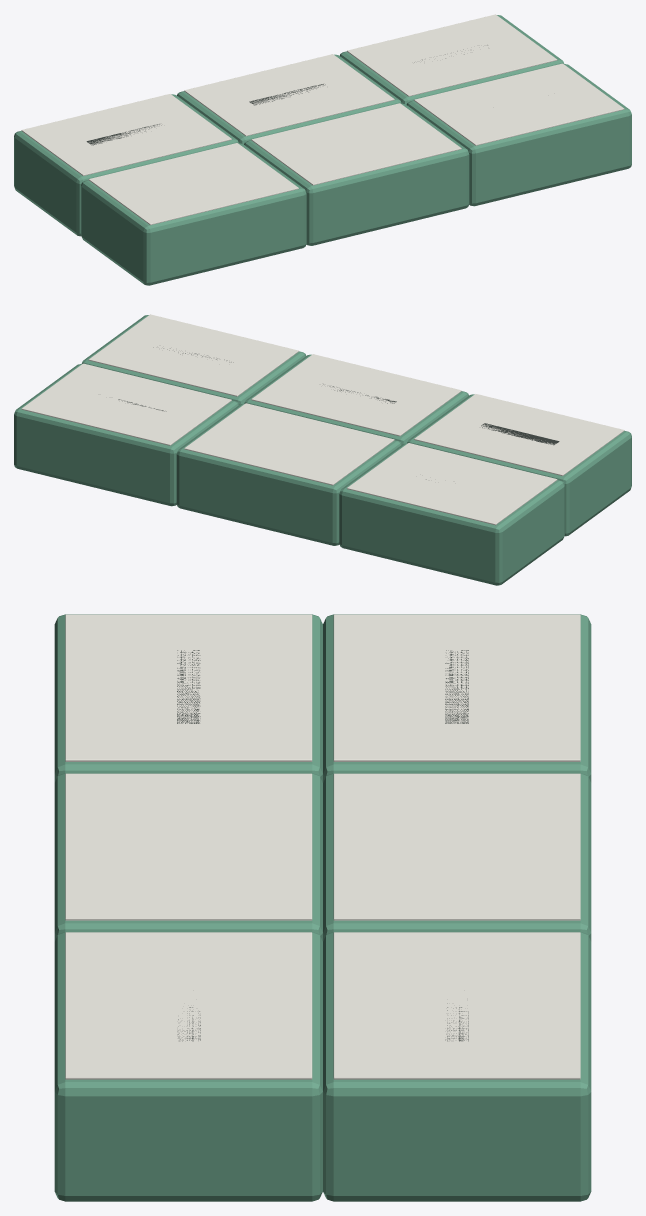
Rendered from heartlink-tissue-layer-v1.glb.
3 renders of one model, top to bottom at view 1: azimuth 30°, elevation 25°; view 2: azimuth 150°, elevation 25°; view 3: azimuth 270°, elevation 25°, orthographic. The views are drawn at different scales.
Parts seen in each view (by area): view 1: pack-04-body, pack-05-body, pack-06-body, pack-03-seal, pack-04-seal, pack-05-seal, pack-06-seal, pack-02-seal, pack-01-seal, pack-01-body, pack-02-body, pack-03-body; view 2: pack-01-body, pack-02-body, pack-03-body, pack-06-seal, pack-01-seal, pack-02-seal, pack-03-seal, pack-05-seal, pack-04-seal, pack-04-body, pack-05-body, pack-06-body (+1 smaller); view 3: pack-02-seal, pack-03-seal, pack-05-seal, pack-06-seal, pack-01-seal, pack-04-seal, pack-03-body, pack-06-body, pack-02-body, pack-05-body, pack-01-body, pack-04-body (+2 smaller).
Boxes of the visible parts, <box> form: pack-04-body: <box>81,143,306,285</box>; pack-05-body: <box>244,103,469,245</box>; pack-06-body: <box>407,64,631,206</box>; pack-03-seal: <box>347,14,557,96</box>; pack-04-seal: <box>88,143,298,225</box>; pack-05-seal: <box>251,103,461,185</box>; pack-06-seal: <box>414,63,624,145</box>; pack-02-seal: <box>184,54,394,136</box>; pack-01-seal: <box>21,94,231,175</box>; pack-01-body: <box>14,94,238,236</box>; pack-02-body: <box>177,54,401,144</box>; pack-03-body: <box>339,15,564,104</box>; pack-01-body: <box>339,443,564,585</box>; pack-02-body: <box>176,403,401,545</box>; pack-03-body: <box>14,364,238,506</box>; pack-06-seal: <box>88,314,298,396</box>; pack-01-seal: <box>347,443,557,525</box>; pack-02-seal: <box>184,403,394,485</box>; pack-03-seal: <box>21,363,231,445</box>; pack-05-seal: <box>251,354,461,436</box>; pack-04-seal: <box>414,394,624,475</box>; pack-04-body: <box>407,394,631,536</box>; pack-05-body: <box>244,354,468,444</box>; pack-06-body: <box>81,315,306,404</box>; pack-02-seal: <box>333,773,580,920</box>; pack-03-seal: <box>333,932,580,1079</box>; pack-05-seal: <box>65,773,312,920</box>; pack-06-seal: <box>65,932,312,1079</box>; pack-01-seal: <box>333,614,580,761</box>; pack-04-seal: <box>65,614,312,761</box>; pack-03-body: <box>323,932,591,1201</box>; pack-06-body: <box>54,932,322,1201</box>; pack-02-body: <box>323,773,591,941</box>; pack-05-body: <box>54,773,322,941</box>; pack-01-body: <box>323,614,591,782</box>; pack-04-body: <box>54,614,322,782</box>.
Bounding box in the file's own units: 0.42 × 0.05 × 0.2.
